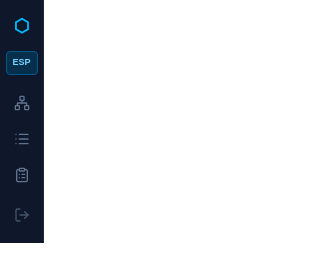
Test: opens popover with rule system list on badge click
This screenshot has width=320, height=260.
Click the button titled "Rule system: ESP".
click(22, 63)  # box [6, 51, 38, 75]
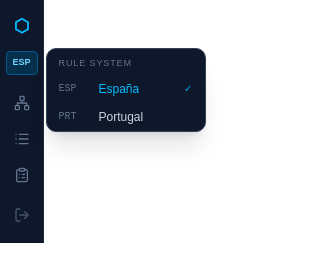
Expected: the text "España" is shown, [98, 80, 139, 96]
Expected: the text "Portugal" is shown, [98, 108, 143, 124]
